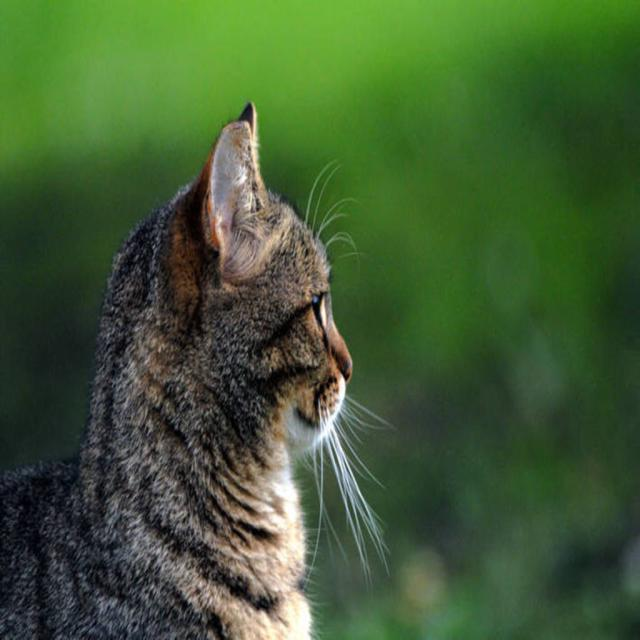Cat: (0, 95, 395, 639)
